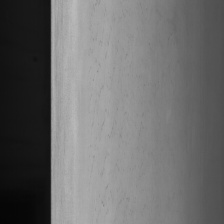silk_spot: (87, 16, 143, 216)
